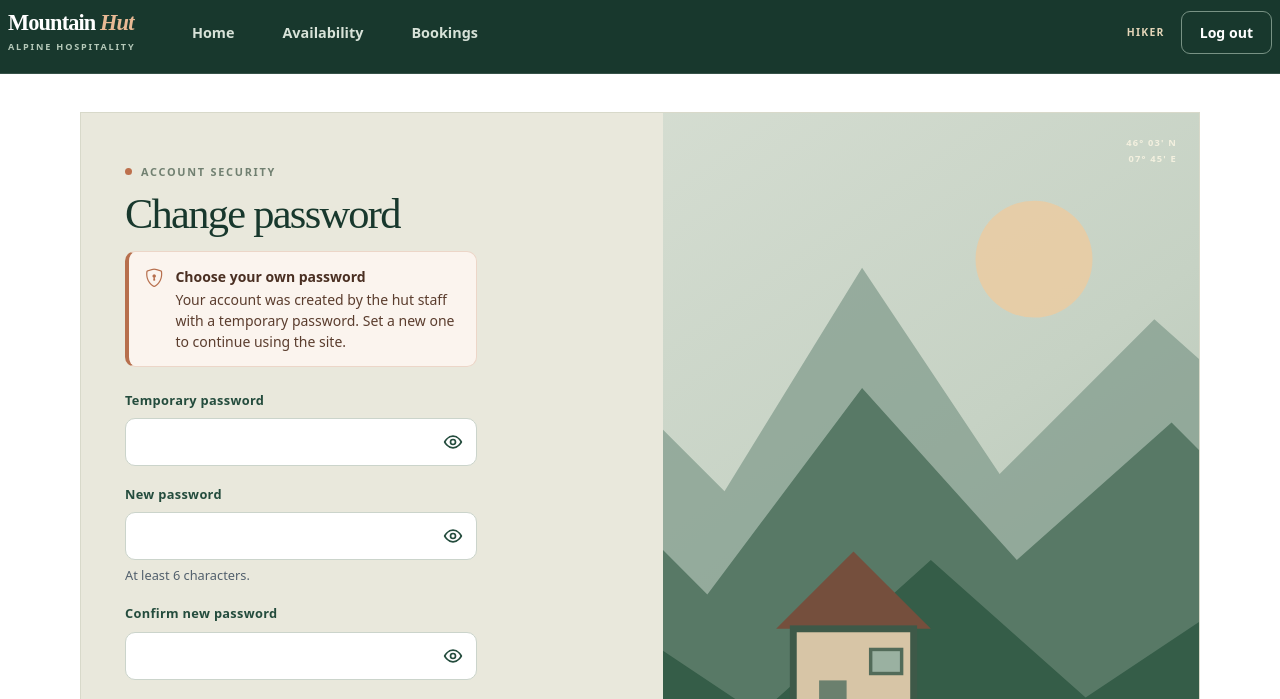
Scenario: forced password change › wrong current password shows an error
This screenshot has width=1280, height=699.
Type "wrong1" into the password field labelled "Temporary password" at [301, 442], box [125, 418, 477, 466]
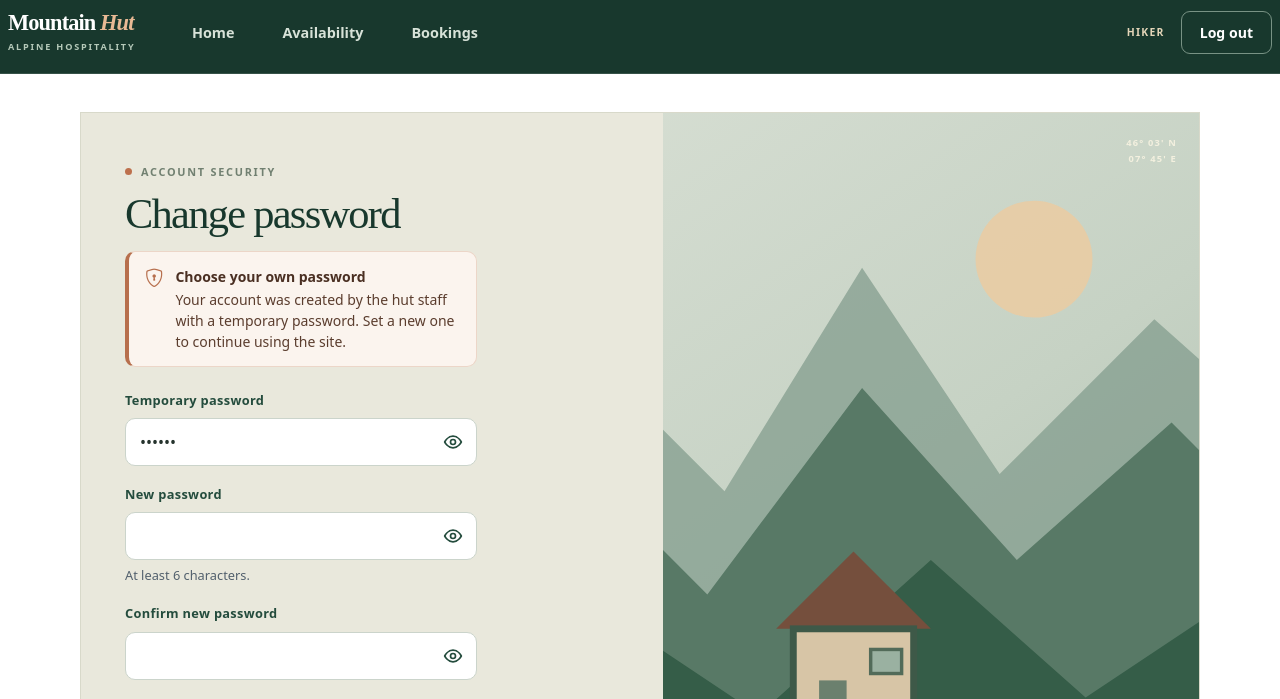
Type "newpass1" into the password field labelled "New password" at [301, 536], box [125, 512, 477, 560]
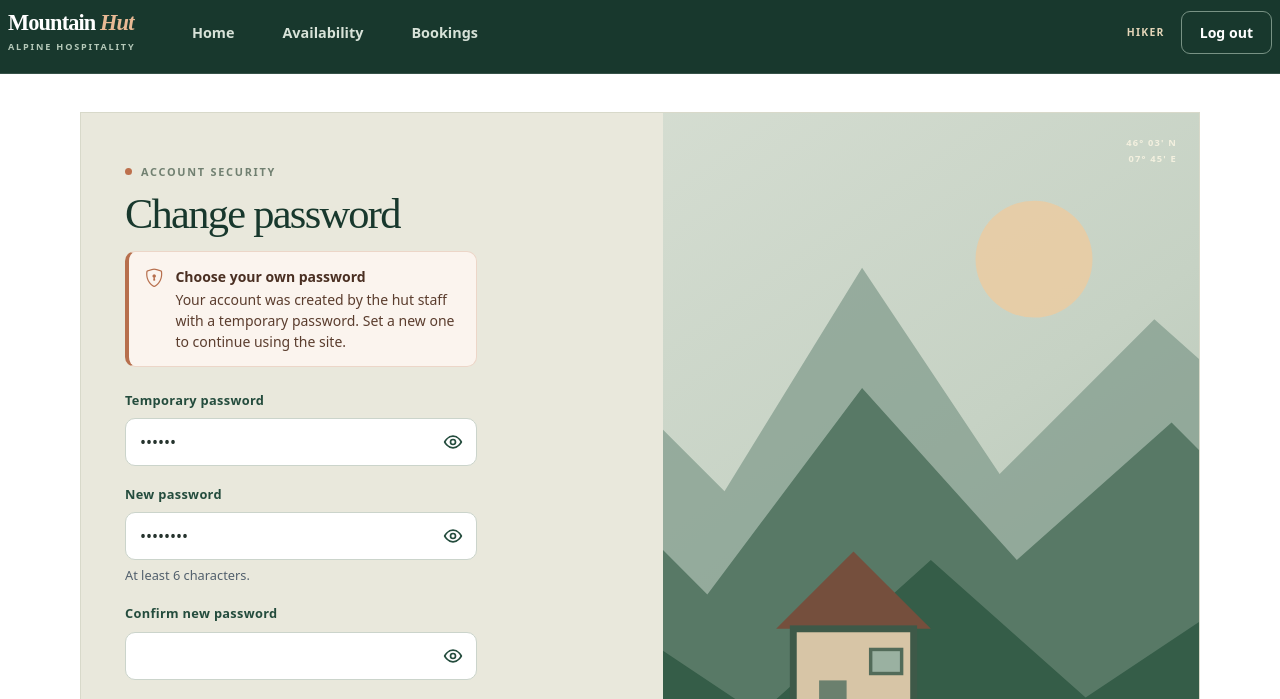
Type "newpass1" into the password field labelled "Confirm new password" at [301, 656], box [125, 632, 477, 680]
(page scrolled)
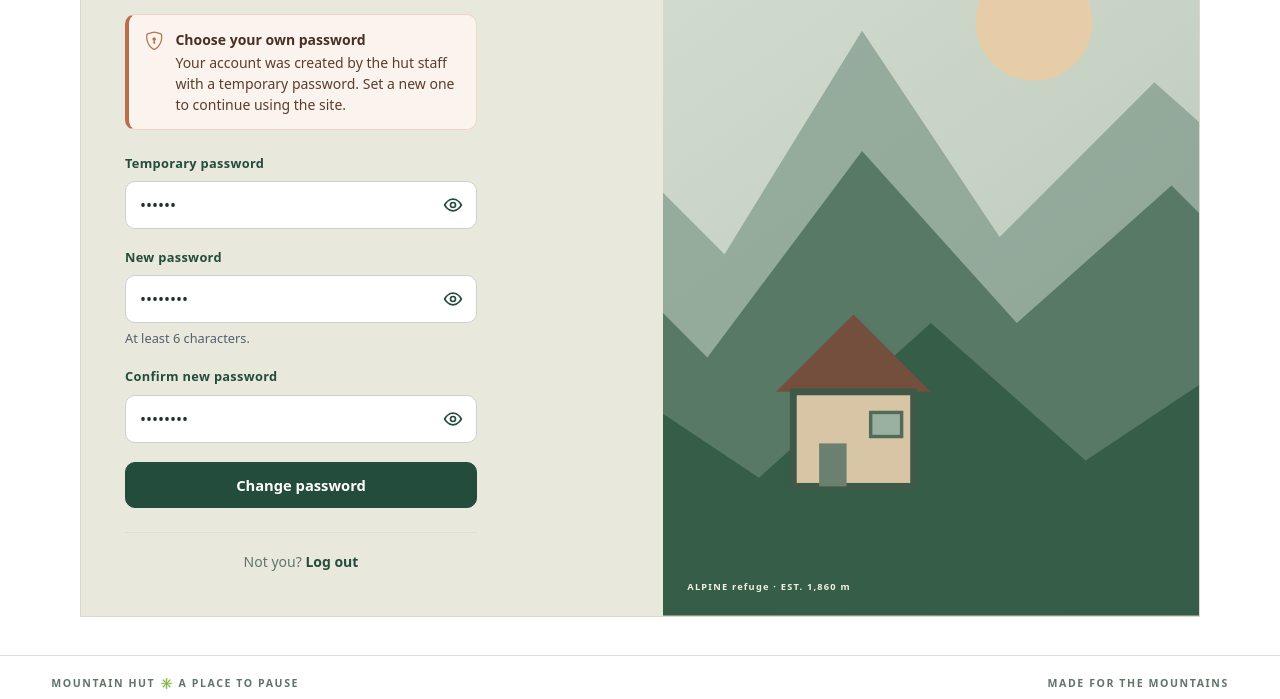
Click the button "Change password" at [301, 485], box [125, 462, 477, 508]
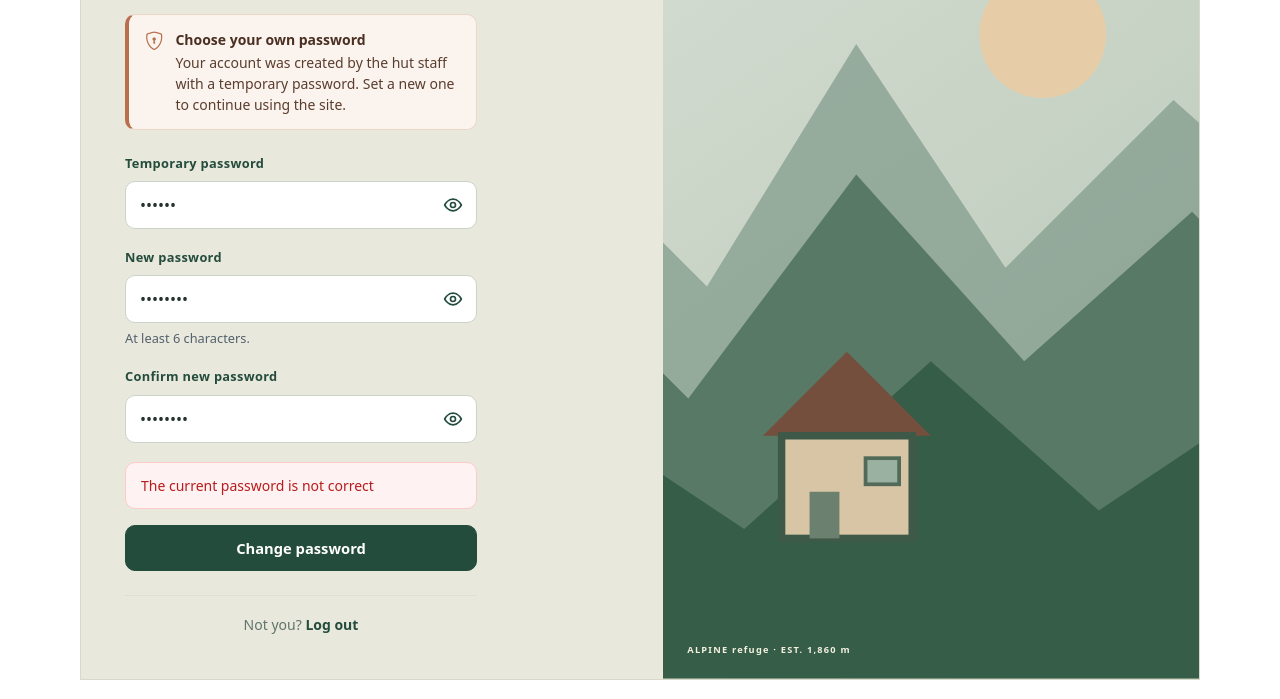
expect the message "The current password is not correct" is shown: met, box [125, 462, 477, 509]
